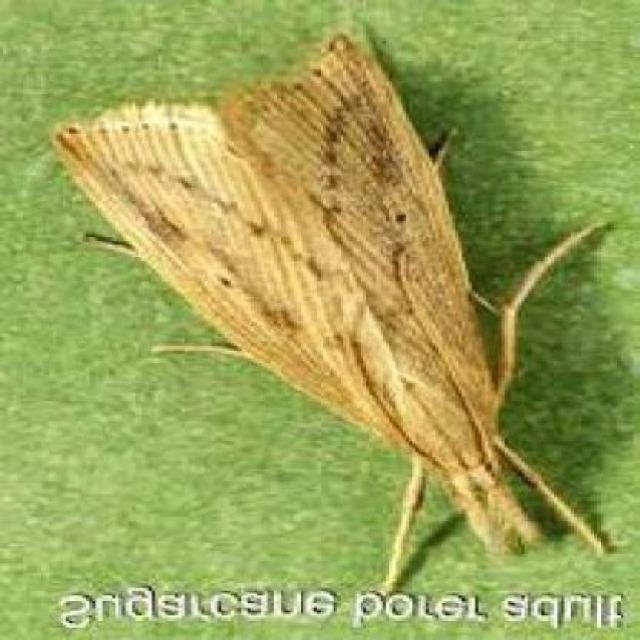stem-borer: (43, 25, 611, 582)
